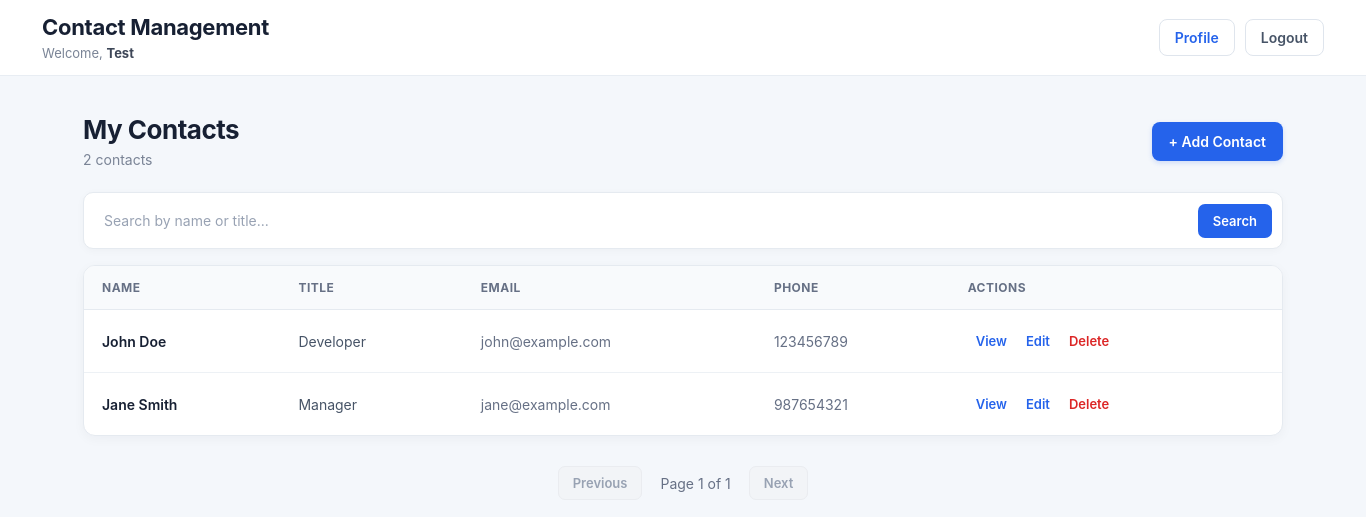
Scenario: Contacts › shows no results message for an active search
Expected: the text "John Doe" is shown, [102,332,166,350]
In the search field with placeholder "Search by name or title...": (641, 220) [94,203,1188,238], type "Nobody"
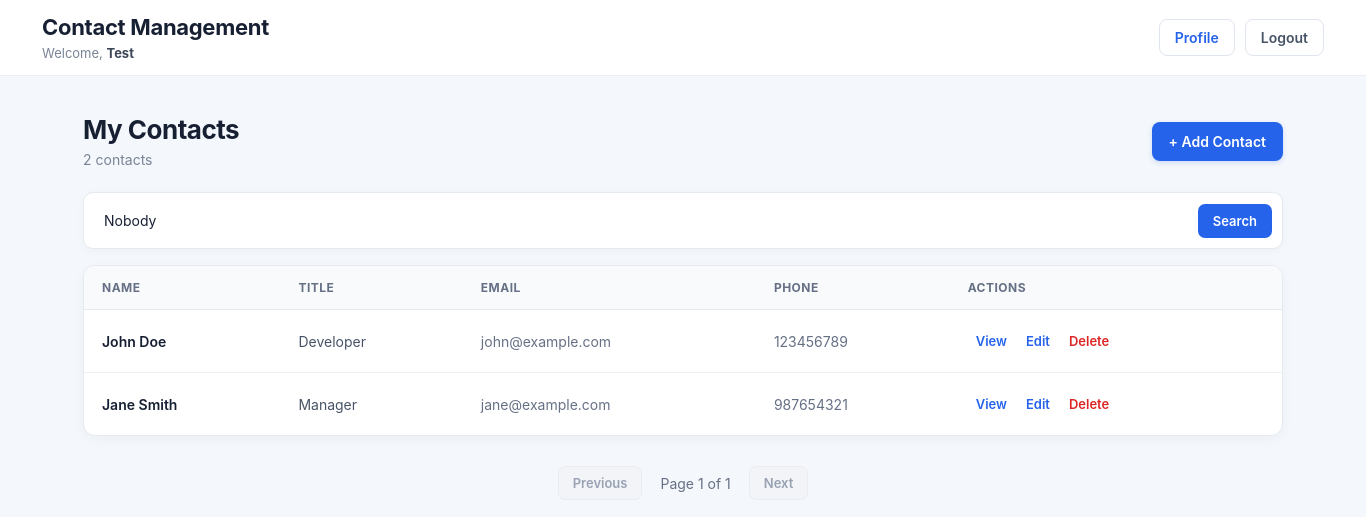
Click the button "Search": (1235, 220) [1198,204,1272,238]
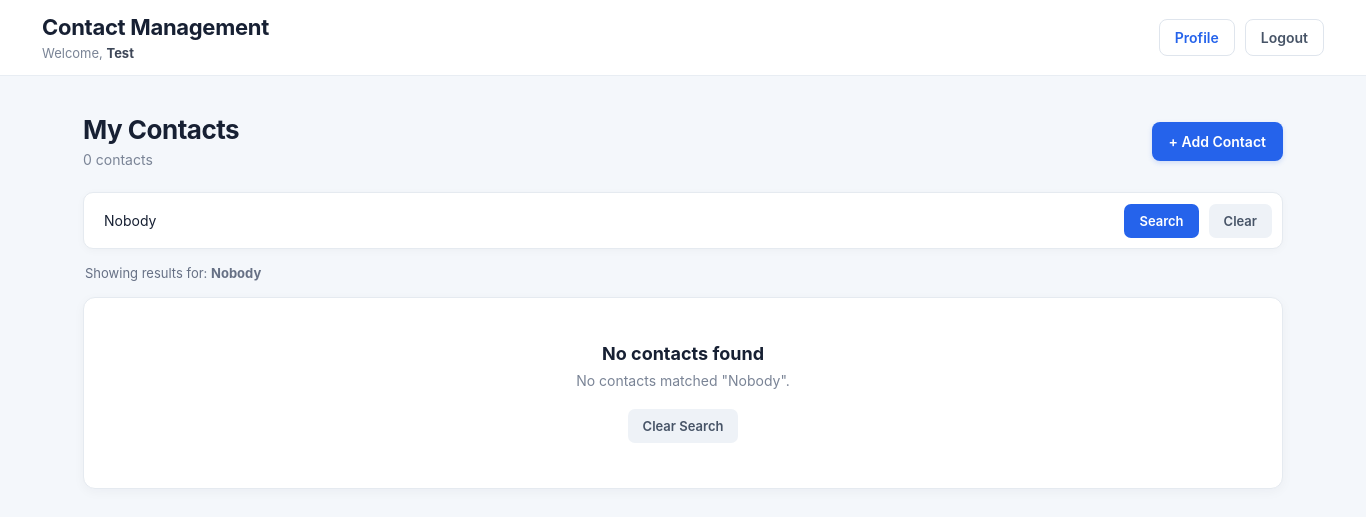
Result: the heading "No contacts found" is shown at [602,343,764,364]
Result: the text "No contacts matched \"Nobody\"." is shown at [576,372,790,389]
